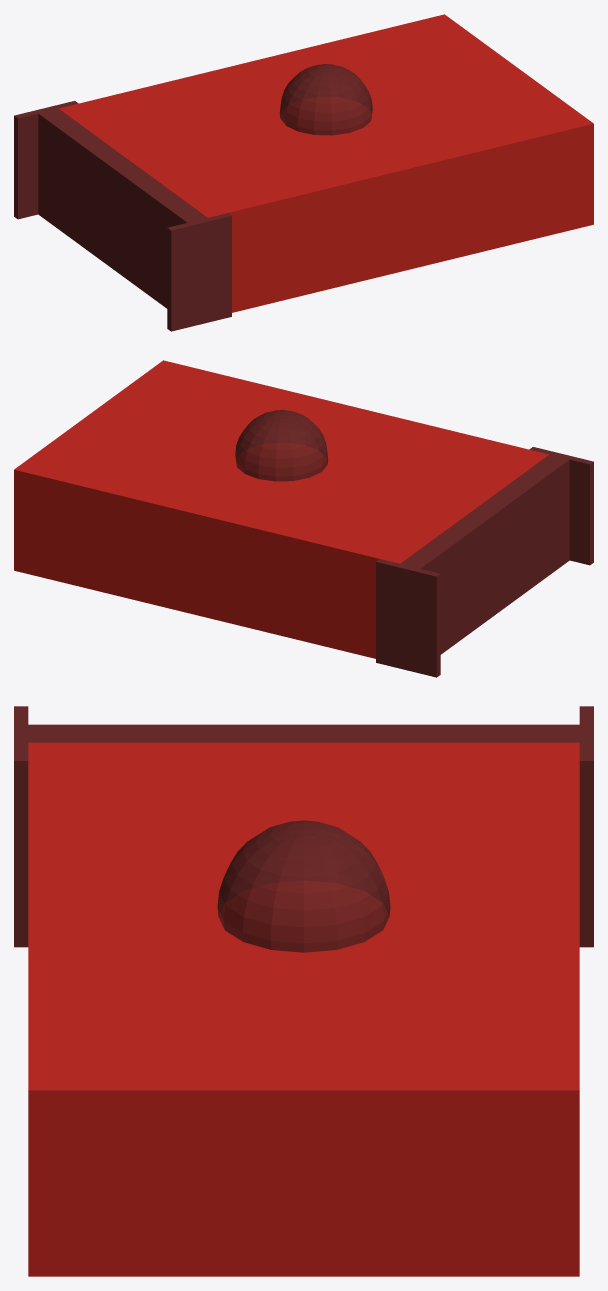
File: lamp-block.glb
The picture shows the model from 3 angles, top to bottom: view 1: azimuth 30°, elevation 25°; view 2: azimuth 150°, elevation 25°; view 3: azimuth 270°, elevation 25°; orthographic projection. The views are drawn at different scales.
Visible parts, largest first — view 1: Cube, Cube.001, Sphere; view 2: Cube, Cube.001, Sphere; view 3: Cube, Sphere, Cube.001.
Part boxes in pixels (x1,y1,x2,y2): Cube: (59, 14, 593, 312); Cube.001: (14, 101, 231, 331); Sphere: (279, 64, 372, 135); Cube: (14, 360, 548, 658); Cube.001: (376, 447, 593, 677); Sphere: (235, 410, 328, 481); Cube: (28, 742, 579, 1276); Sphere: (217, 820, 390, 952); Cube.001: (14, 706, 593, 947).
Size of the model in its own units: 0.21 by 0.07 by 0.134.
